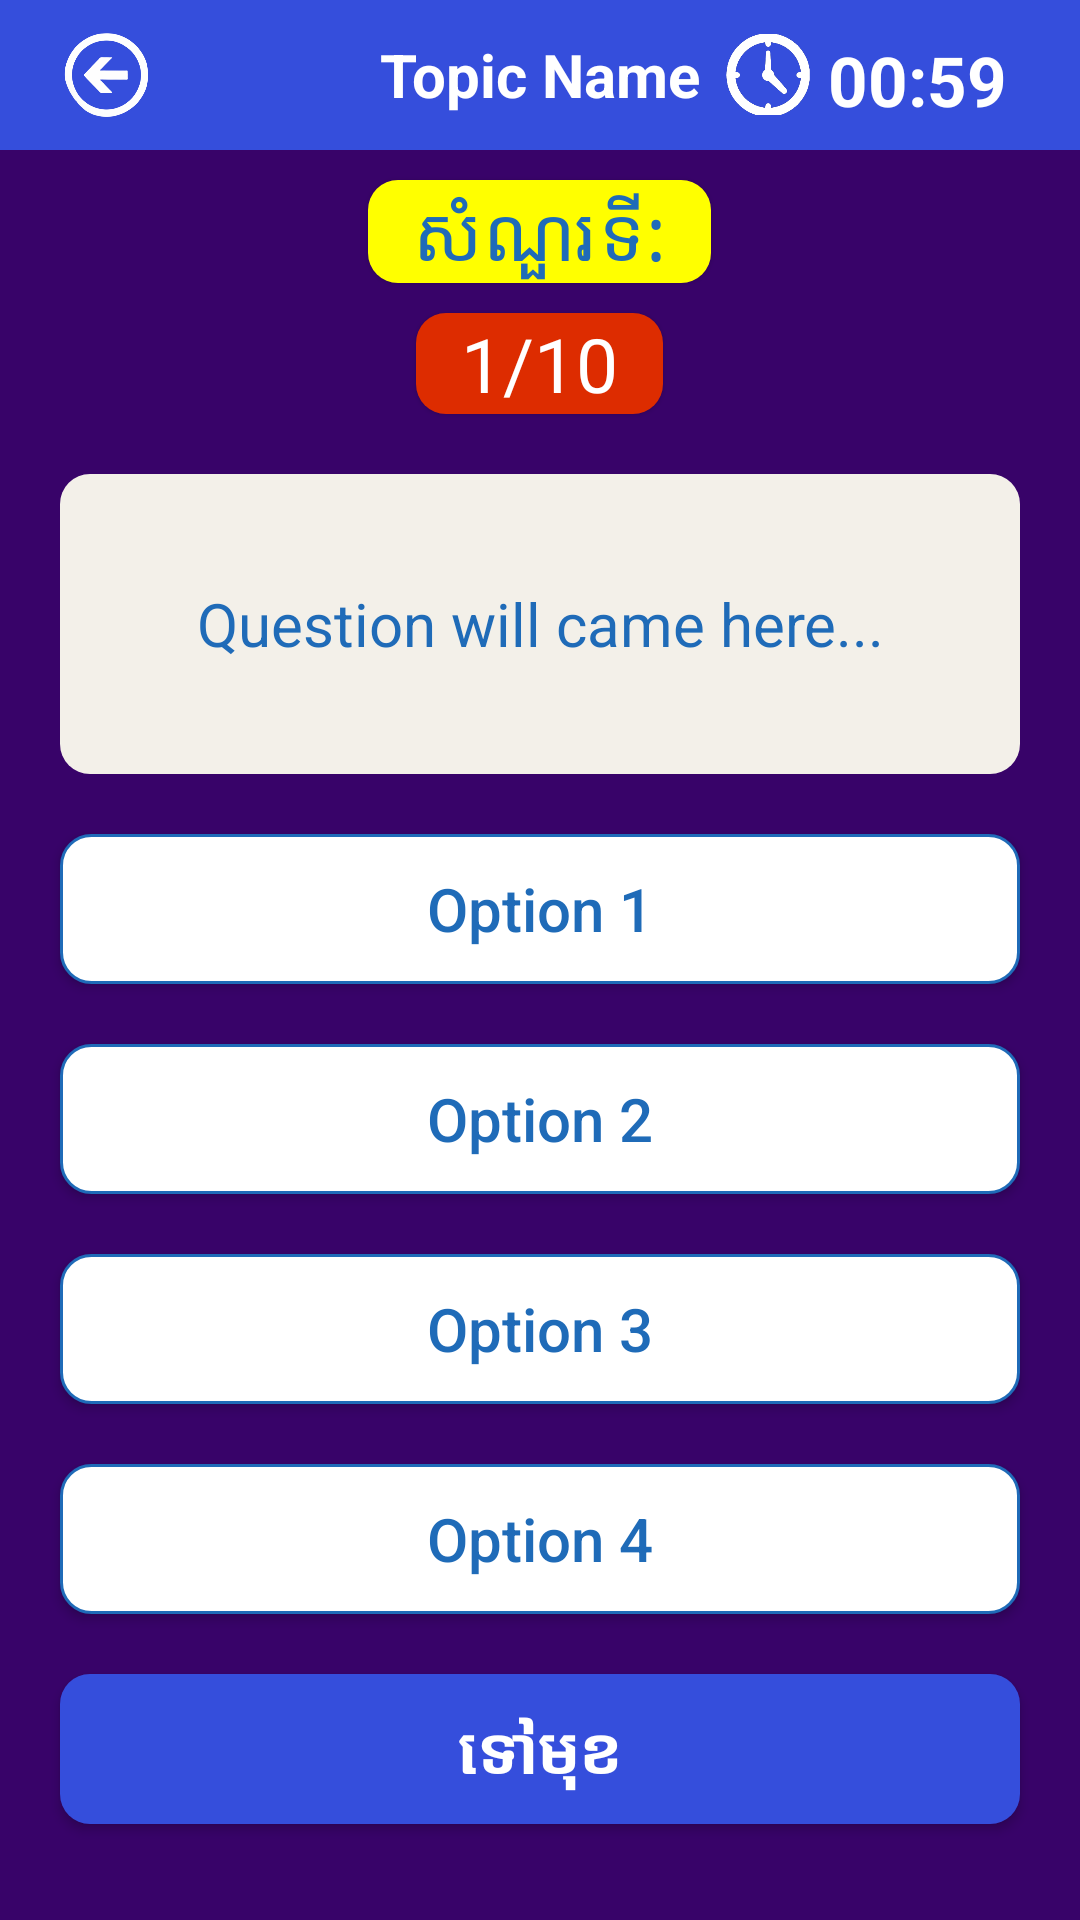

Point at icon controls on the screen. Image size 1080px×1920px, points as point (x, y).
back: point (106, 75)
timer: point (768, 74)
